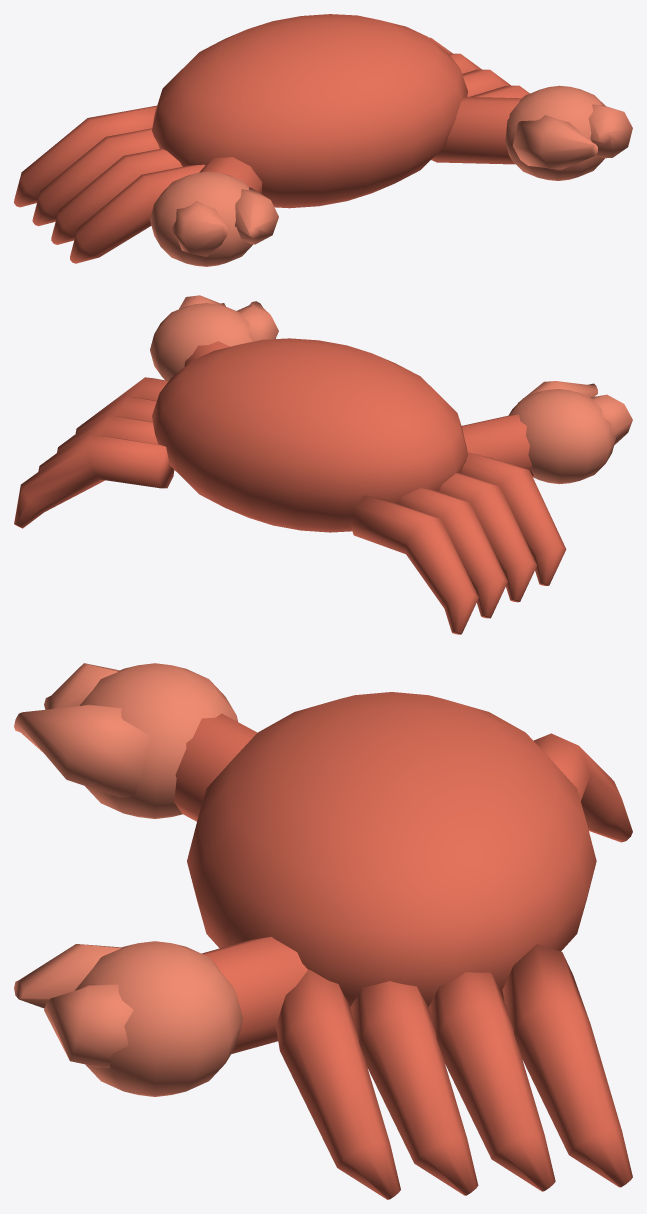
The model's file is crab.glb.
The picture shows the model from 3 angles, top to bottom: view 1: azimuth 30°, elevation 25°; view 2: azimuth 150°, elevation 25°; view 3: azimuth 270°, elevation 25°; orthographic projection. The views are drawn at different scales.
Visible parts, largest first — view 1: crab; view 2: crab; view 3: crab.
Part boxes in pixels (x1,y1,x2,y2): crab: (14,14,632,266); crab: (14,295,632,634); crab: (14,663,632,1199).
Bounding box in the file's own units: 0.7383 × 0.2501 × 0.5045.
